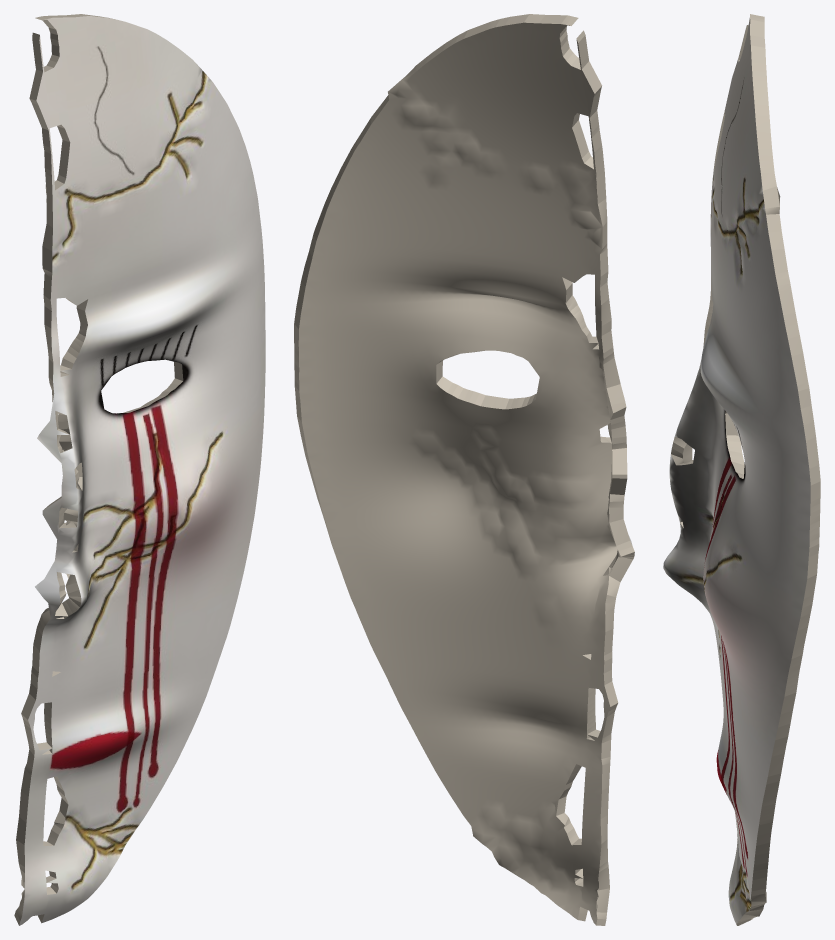
File: 片目の半面_katame.glb
3 views of the same model, side by side, from view 1: azimuth 30°, elevation 25°; view 2: azimuth 150°, elevation 25°; view 3: azimuth 270°, elevation 25° (orthographic).
Visible parts, largest first — view 1: katame; view 2: katame; view 3: katame.
Part boxes in pixels (bbox=[...]): katame: bbox=[14, 14, 265, 925]; katame: bbox=[294, 14, 634, 925]; katame: bbox=[663, 14, 820, 925].
Size of the model in its own units: 0.0994 by 0.3003 by 0.0472.
1 material, 1 textured.
